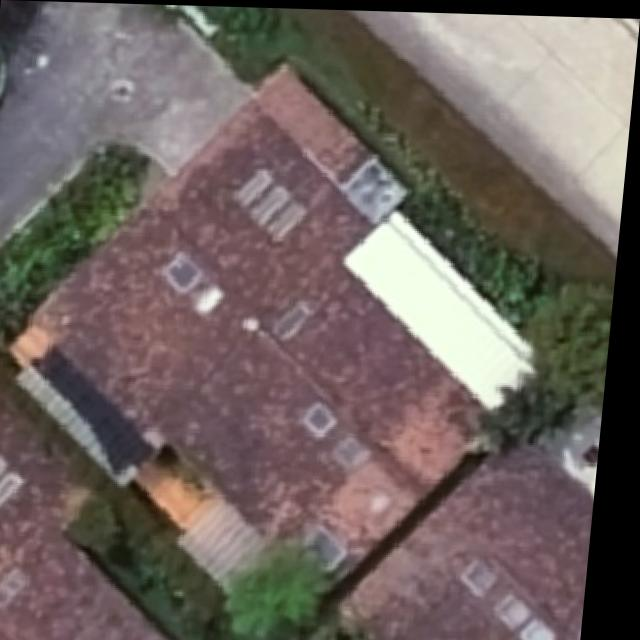Batiment: (22, 70, 488, 559), (357, 445, 603, 640), (0, 390, 176, 640), (365, 465, 603, 640)
